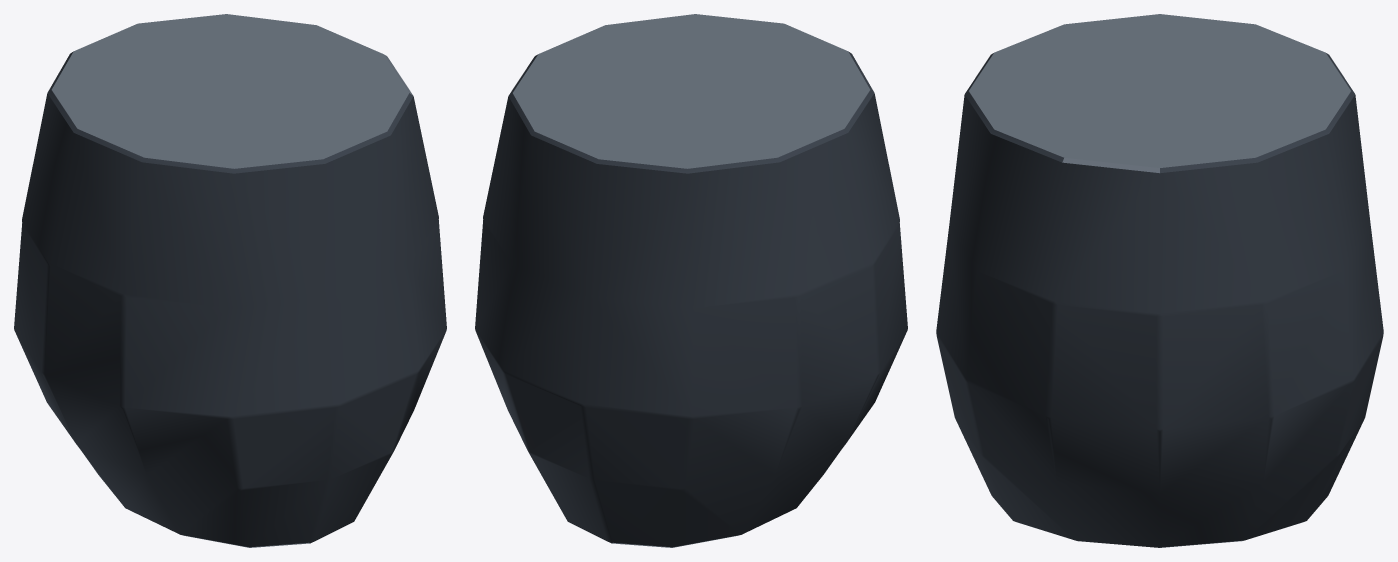
The model's file is pelvis_light.glb.
The picture shows the model from 3 angles, left to right: view 1: azimuth 30°, elevation 25°; view 2: azimuth 150°, elevation 25°; view 3: azimuth 270°, elevation 25°; orthographic projection. The views are drawn at different scales.
Visible parts, largest first — view 1: pelvis_light; view 2: pelvis_light; view 3: pelvis_light.
Boxes of the visible parts, left/top/right/bottom form: pelvis_light: left=14, top=14, right=446, bottom=547; pelvis_light: left=475, top=14, right=907, bottom=547; pelvis_light: left=936, top=14, right=1383, bottom=547.
Size of the model in its own units: 0.9959 by 1 by 0.9982.
